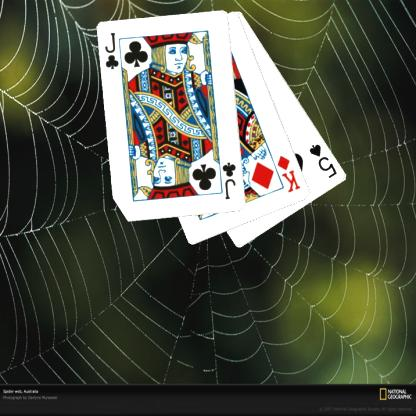5S: (306, 141, 338, 180)
JC: (220, 160, 238, 201), (102, 30, 120, 71)
KD: (275, 152, 302, 194)
